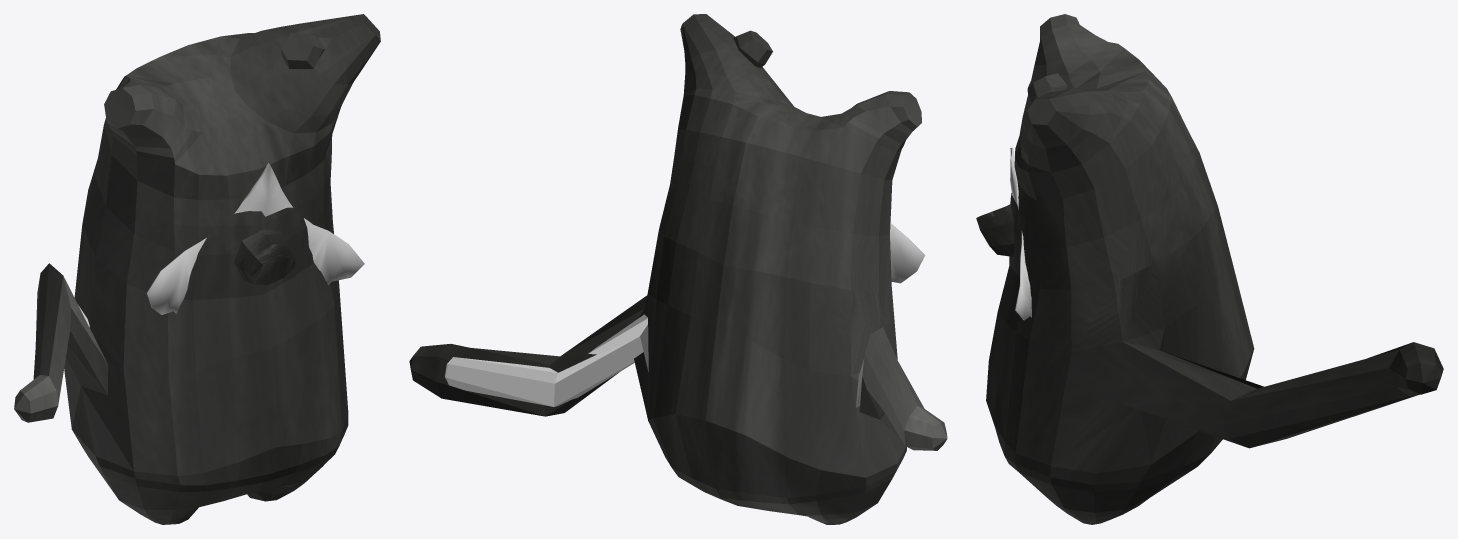
The model's file is frame_0020.obj.
3 renders of one model, left to right at view 1: azimuth 30°, elevation 25°; view 2: azimuth 150°, elevation 25°; view 3: azimuth 270°, elevation 25°, orthographic. The views are drawn at different scales.
Visible parts, largest first — view 1: korok, leaf, nose; view 2: korok, leaf; view 3: korok, nose, leaf.
Boxes of the visible parts, <box> form: korok: <box>14,14,380,524</box>; leaf: <box>146,163,364,314</box>; nose: <box>234,229,295,284</box>; korok: <box>409,14,947,524</box>; leaf: <box>890,223,925,283</box>; korok: <box>986,14,1443,524</box>; nose: <box>976,204,1014,256</box>; leaf: <box>1010,147,1031,320</box>.
Bounding box in the file's own units: 1.96 × 2.18 × 2.03.
